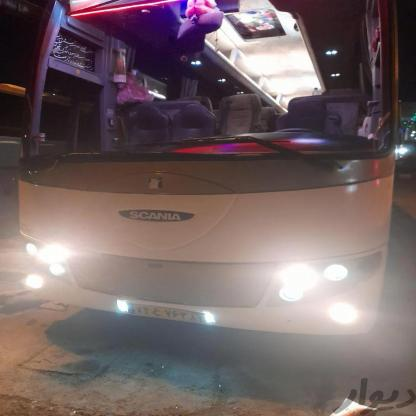Bus: (0, 0, 387, 349)
